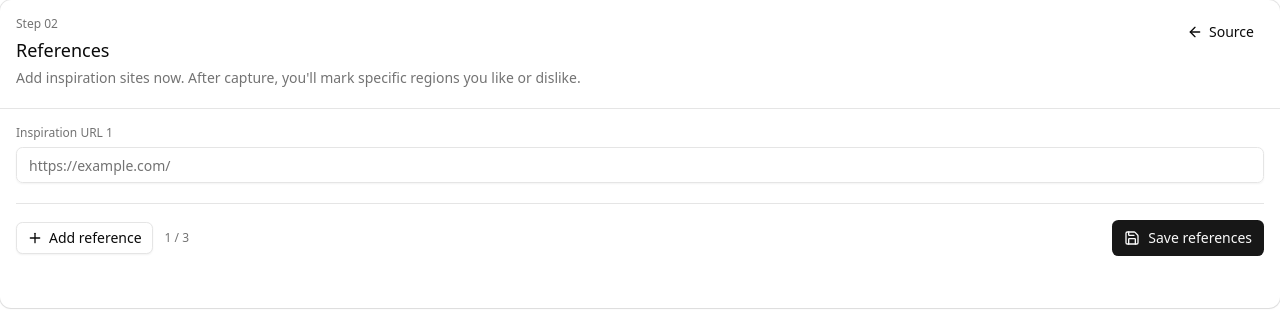
References step › saves normalized pending URLs while preserving unrelated state
Type "  https://Example.com:443/inspiration  " into the field labelled "Inspiration URL 1" at {"x": 640, "y": 165}, box x1=16 y1=147 x2=1264 y2=183
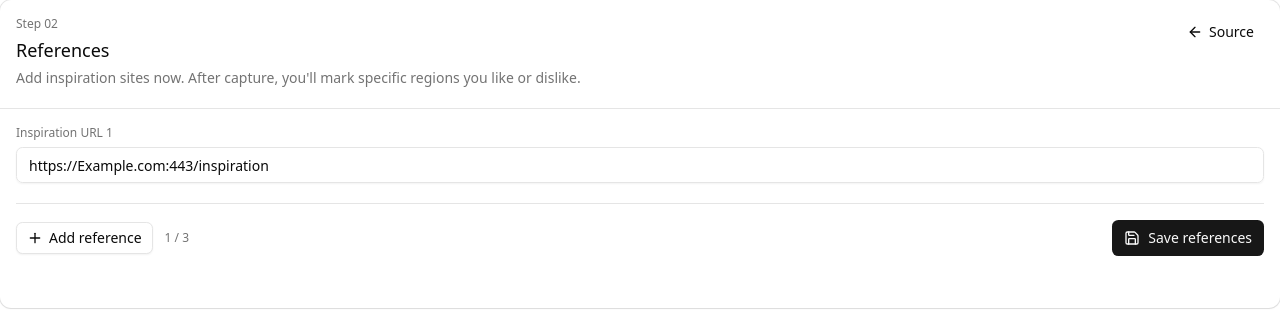
Click the button "Save references" at {"x": 1188, "y": 238}, box x1=1112 y1=220 x2=1264 y2=256
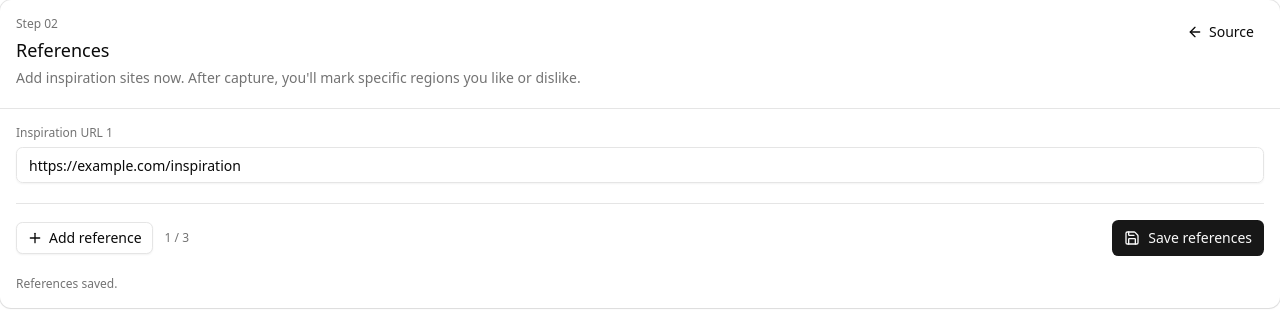
Result: the message reads "References saved." at x1=16 y1=275 x2=117 y2=292
